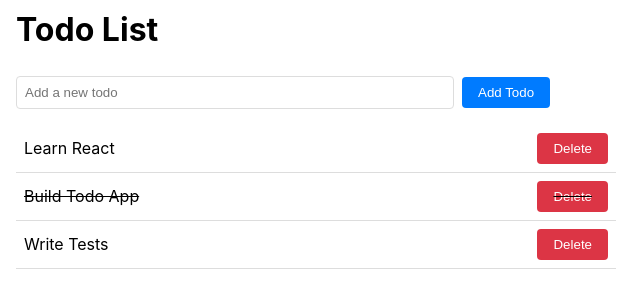
Test: TodoList Component › displays no todos message when all todos are deleted
Step 1. Click the button "Delete" in the row of "Learn React" → coordinates (573, 148), box x1=538 y1=133 x2=608 y2=164
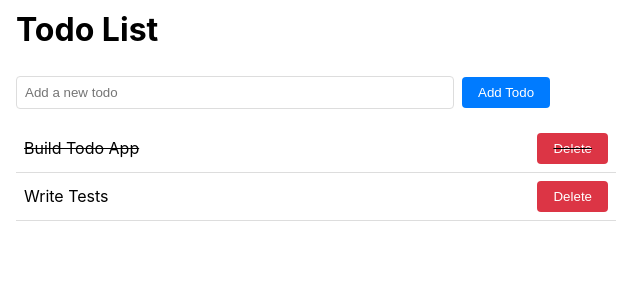
Step 2. Click the button "Delete" in the row of "Build Todo App" → coordinates (573, 148), box x1=538 y1=133 x2=608 y2=164
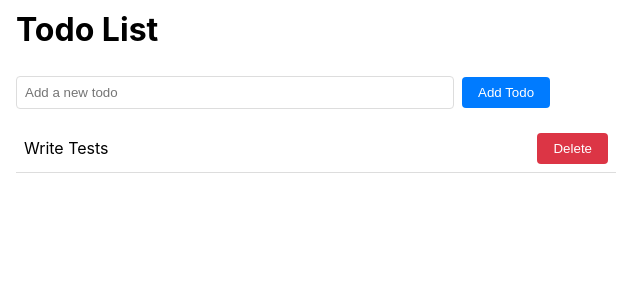
Step 3. Click the button "Delete" → coordinates (573, 148), box x1=538 y1=133 x2=608 y2=164
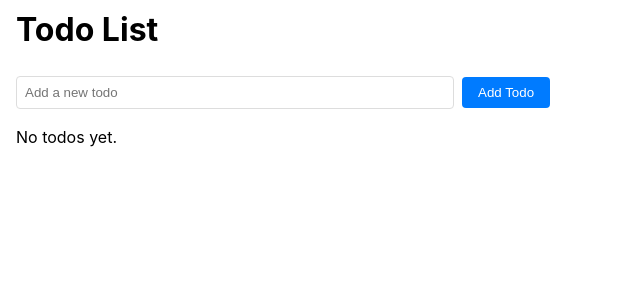
Expected: the text "No todos yet." is shown, x1=16 y1=127 x2=117 y2=147
